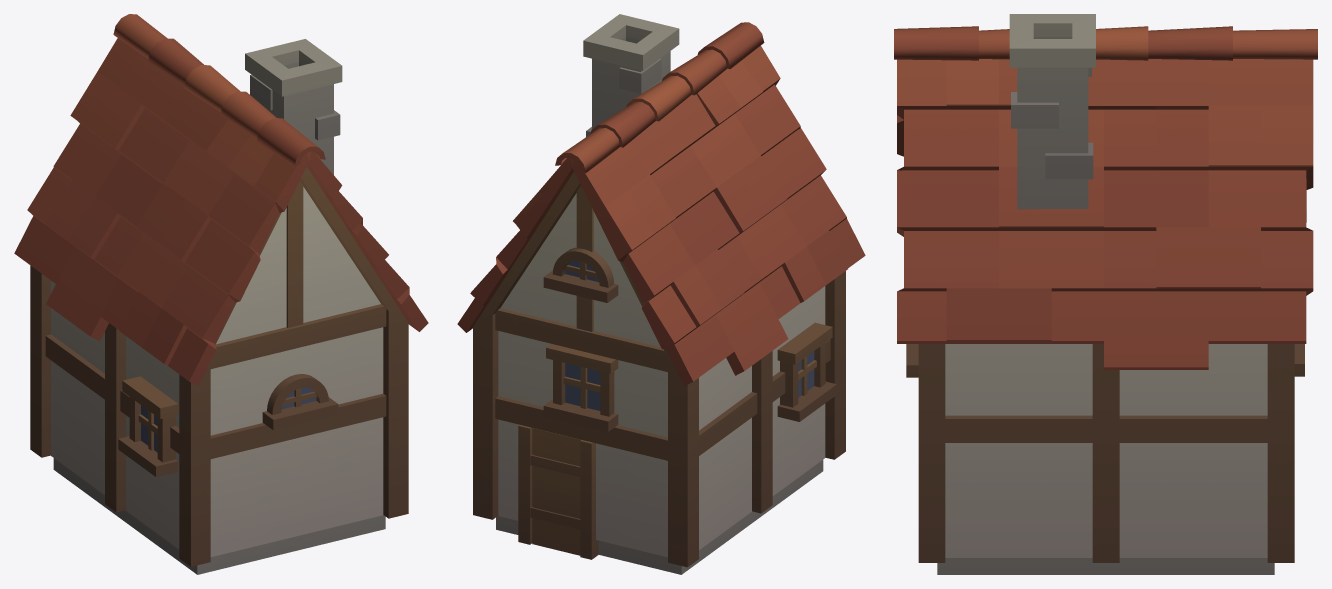
Rendered from house1.fbx.
The picture shows the model from 3 angles, left to right: view 1: azimuth 30°, elevation 25°; view 2: azimuth 150°, elevation 25°; view 3: azimuth 270°, elevation 25°; orthographic projection. The views are drawn at different scales.
Parts seen in each view (by area): view 1: house1; view 2: house1; view 3: house1.
Part boxes in pixels (<box>): house1: <box>14,14,428,574</box>; house1: <box>457,14,865,574</box>; house1: <box>894,14,1317,574</box>.
Size of the model in its own units: 261 by 427 by 315.
